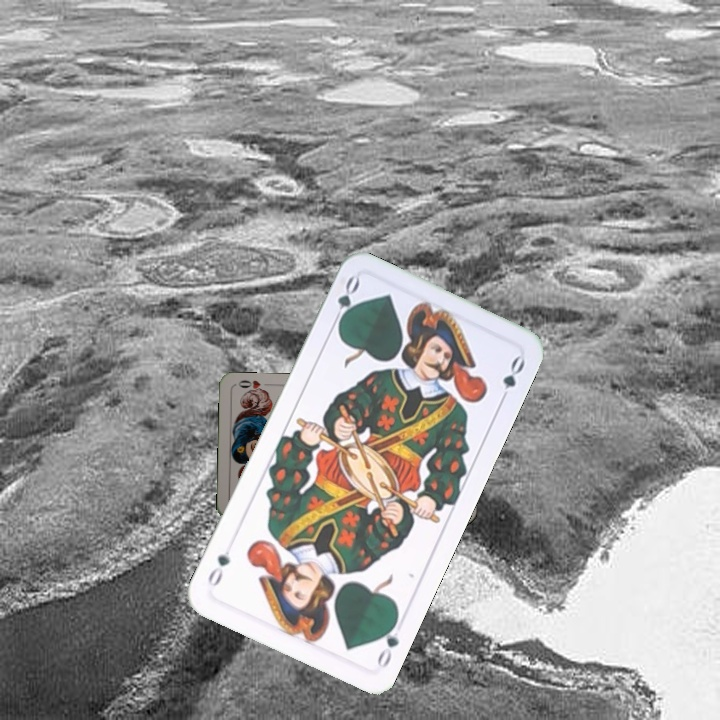GO: (328, 272, 363, 331), (372, 613, 407, 671)
